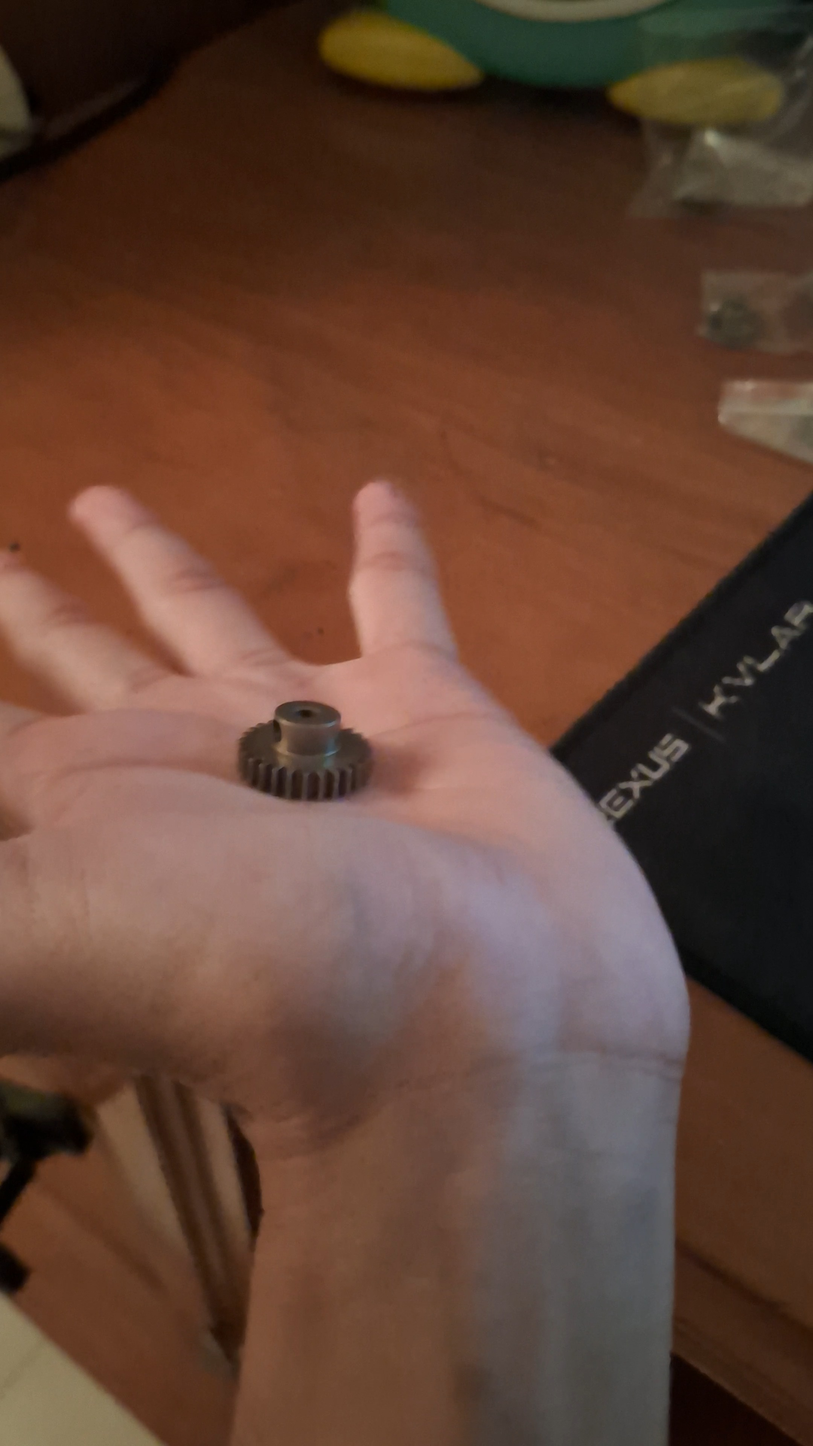spur gear: (238, 700, 372, 801)
